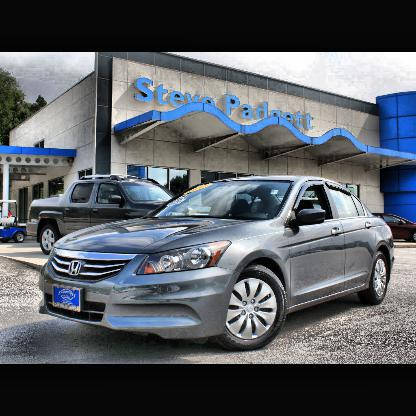Honda Accord Sedan 2012: (39, 178, 394, 351)
